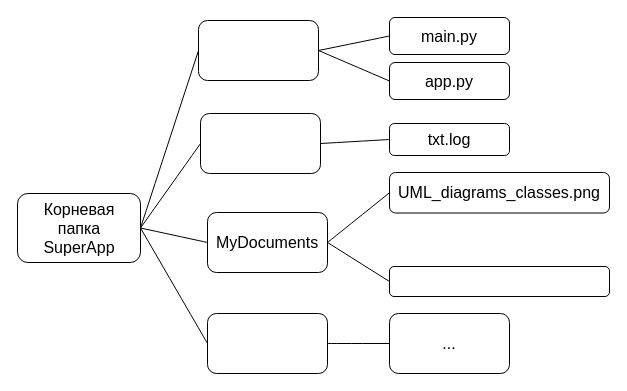
This 627x391 diagram has some shape labels left out. The centre of each missing label's shape, as x and y in pixels:
"Diagrams_structure.png" belongs at point 499,281.
"Logs" belongs at point 260,143.
"System" belongs at point 258,50.
"Trash" belongs at point 267,343.
